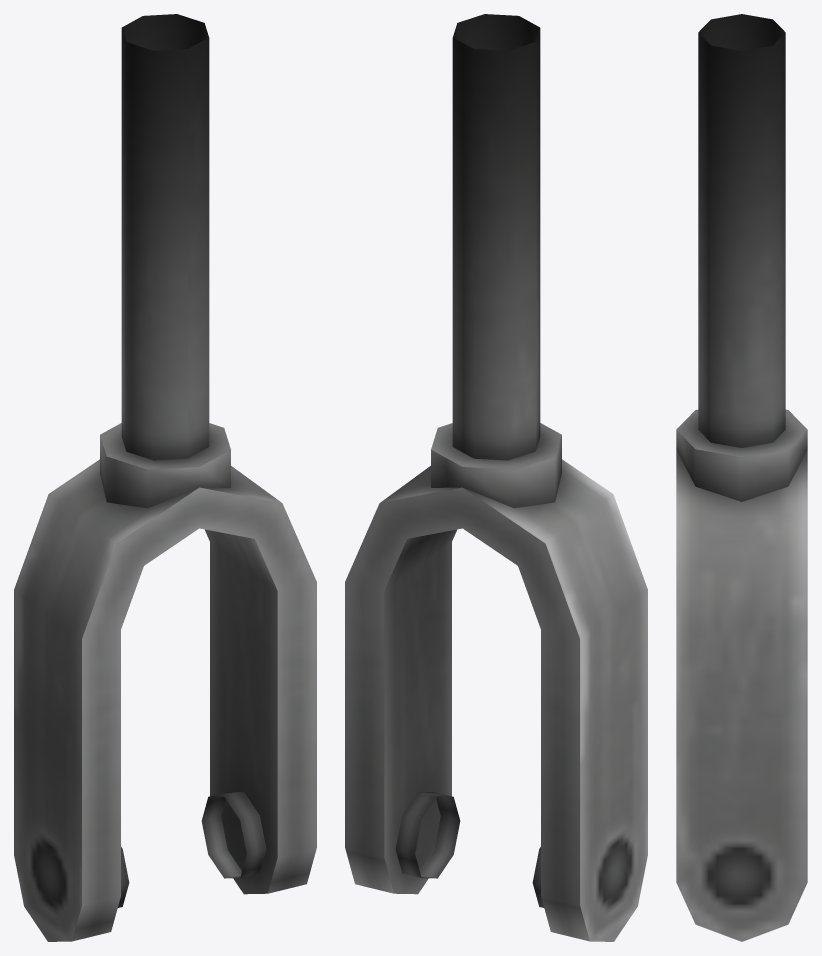
The model's file is blue_steel_landing_gear_srf_1_steering.obj.
The picture shows the model from 3 angles, left to right: view 1: azimuth 30°, elevation 25°; view 2: azimuth 150°, elevation 25°; view 3: azimuth 270°, elevation 25°; orthographic projection. The views are drawn at different scales.
Parts seen in each view (by area): view 1: mesh1; view 2: mesh1; view 3: mesh1.
Boxes of the visible parts, x1,y1,x2,y2 form: mesh1: (14,14,316,941); mesh1: (345,14,647,941); mesh1: (676,14,807,941).
Bounding box in the file's own units: 0.15 × 0.5375 × 0.075.
Materials: 1 (1 with a texture image).
